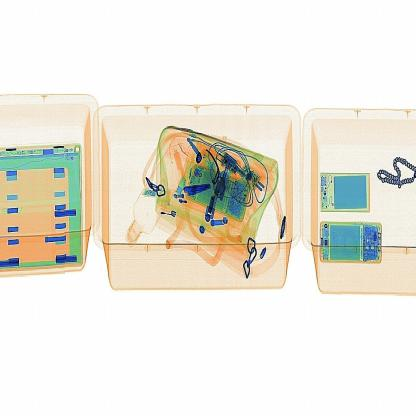knife: (178, 175, 223, 207)
